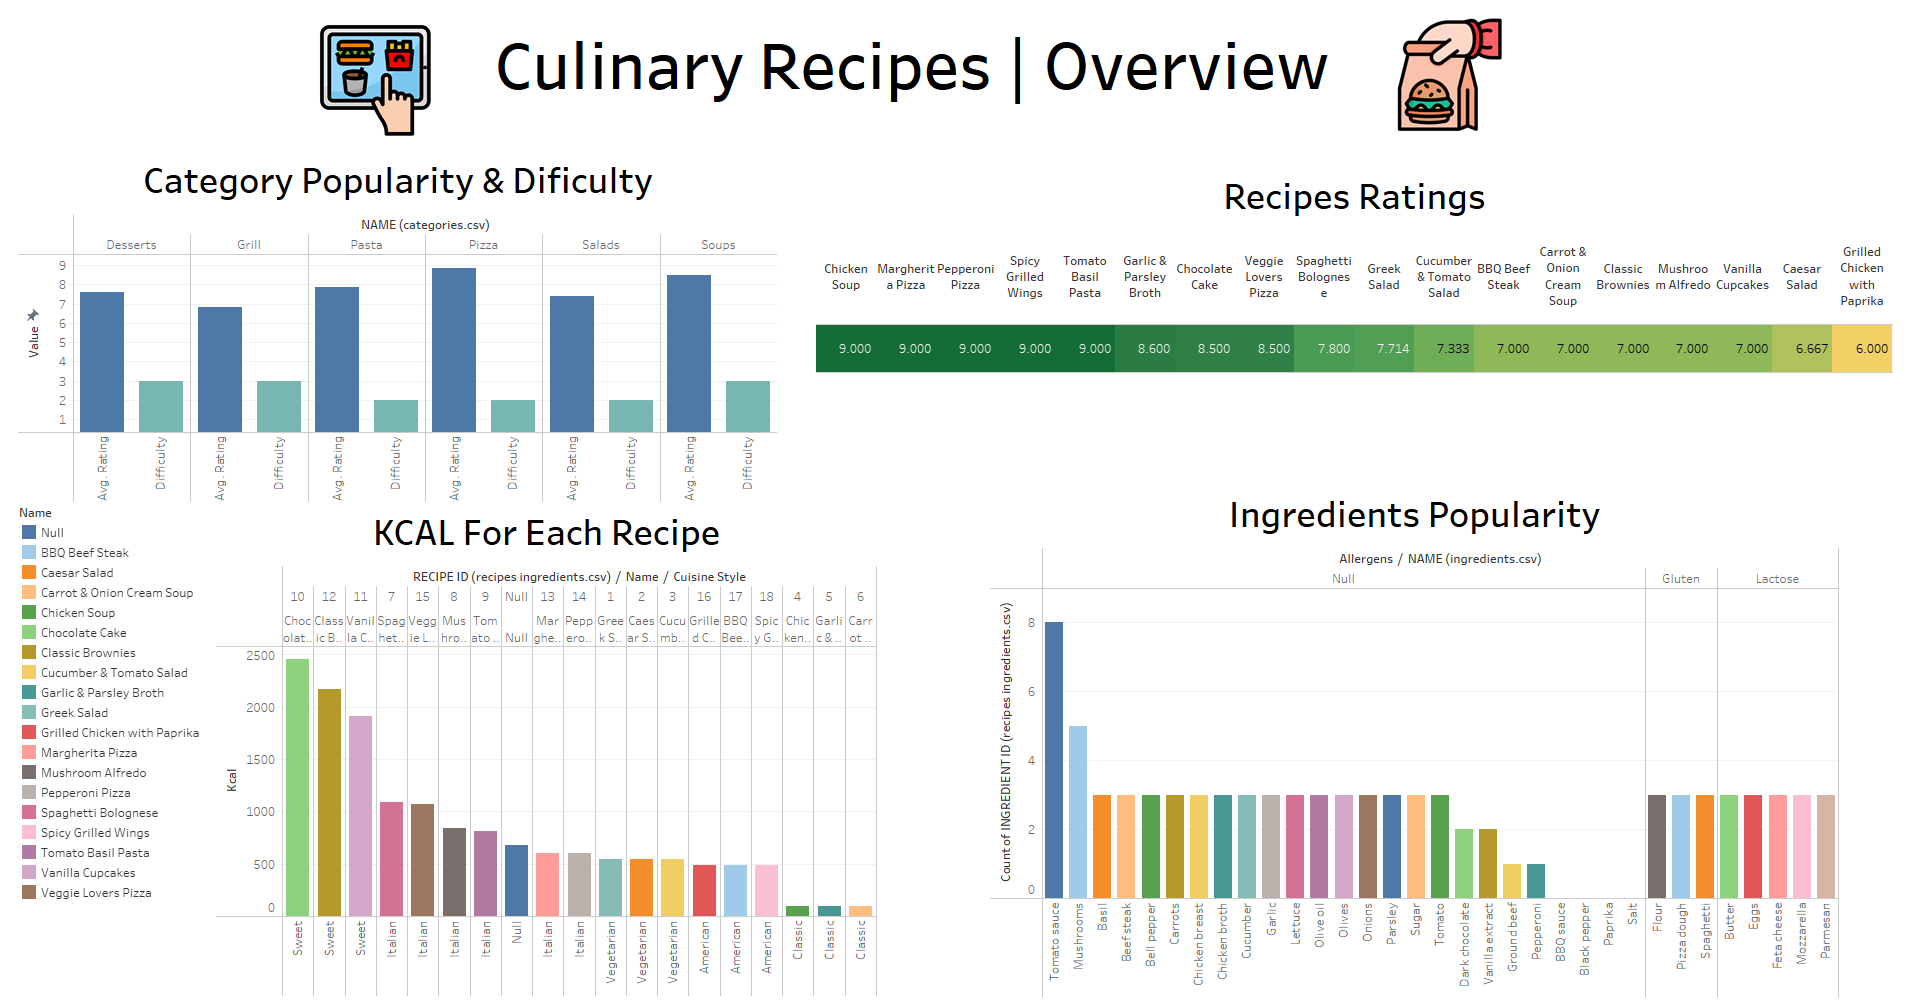

What the dashboard file says about the page in this screenshot:
{"tool":"tableau","page":{"name":"Dashboard 1","canvas":[1000,1000],"units":"permille","ordinal":0},"visuals":[{"type":"blank","box":[0,0,698.7,1000]},{"type":"text","box":[233.3,10.4,485.4,104.2]},{"type":"image","param":"C:/Users/Priala/Desktop/tb_bun/7541682.png","box":[724.4,13.9,62.9,133.1]},{"type":"image","param":"C:/Users/Priala/Desktop/tb_bun/2722160.png","box":[165.8,20.8,66.3,116.9]},{"type":"worksheet","title":"Sheet 5","mark":"Automatic","cols":["NAME (categories.csv)"],"box":[10.3,149.3,395.7,348.4]},{"type":"worksheet","title":"Sheet 1","mark":"Square","cols":["NAME"],"box":[426,165.5,560.9,333.3]},{"type":"worksheet","title":"Sheet 3","mark":"Automatic","rows":["INGREDIENT_ID (recipes_ingredients.csv)"],"cols":["ALLERGENS","NAME (ingredients.csv)"],"box":[516.9,480.3,442,509.3]},{"type":"worksheet","title":"Sheet 6","mark":"Automatic","rows":["KCAL"],"cols":["RECIPE_ID (recipes_ingredients.csv)","NAME","CUISINE_STYLE"],"box":[113.8,497.7,344.2,489.6]},{"type":"legend","title":"Sheet 6","param":"[federated.1fg8lnd0et9wls1a3f3x11fioymj].[none:NAME:nk]","box":[10.9,498.8,105.8,490.7]}]}

Visuals, with their boxes on the dashboard's canvas, which has no fixed pixel size, in thousandths of its width and height (x1, y1, x2, y2). These are canvas units, not pixel positions in the 1918x1008 screenshot, which may show the page scaled, cropped or inside an application window:
blank: locate(0, 0, 699, 1000)
text: locate(233, 10, 719, 115)
image: locate(724, 14, 787, 147)
image: locate(166, 21, 232, 138)
"Sheet 5" worksheet: locate(10, 149, 406, 498)
"Sheet 1" worksheet (Square marks): locate(426, 166, 987, 499)
"Sheet 3" worksheet: locate(517, 480, 959, 990)
"Sheet 6" worksheet: locate(114, 498, 458, 987)
"Sheet 6" legend: locate(11, 499, 117, 990)
